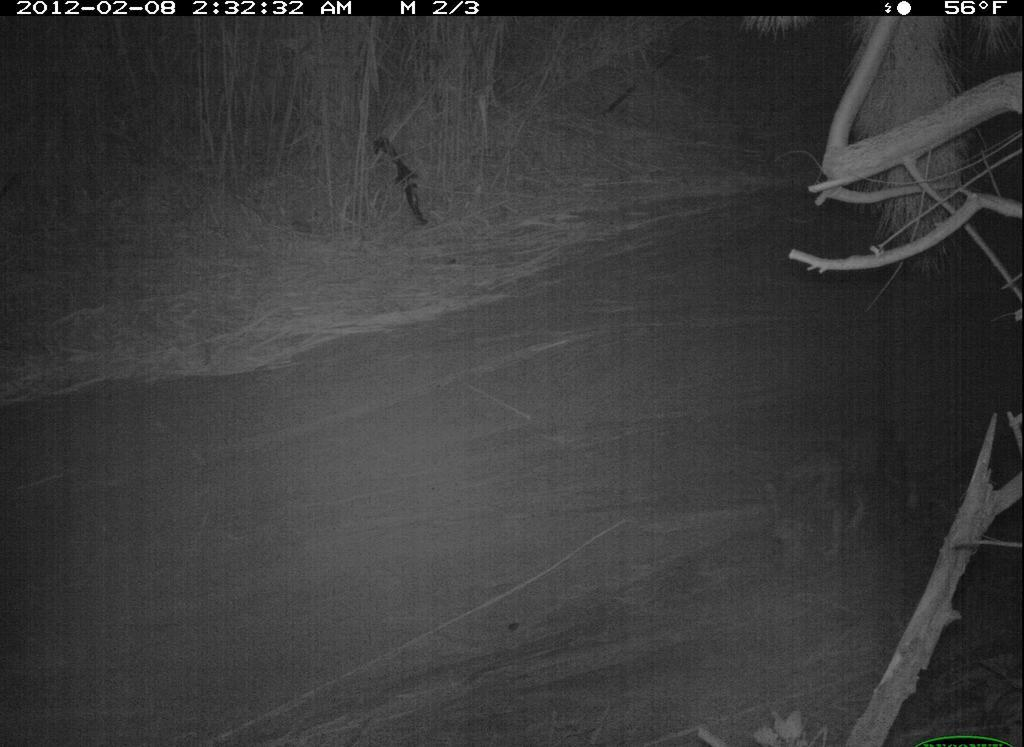coyote: (756, 393, 923, 580)
